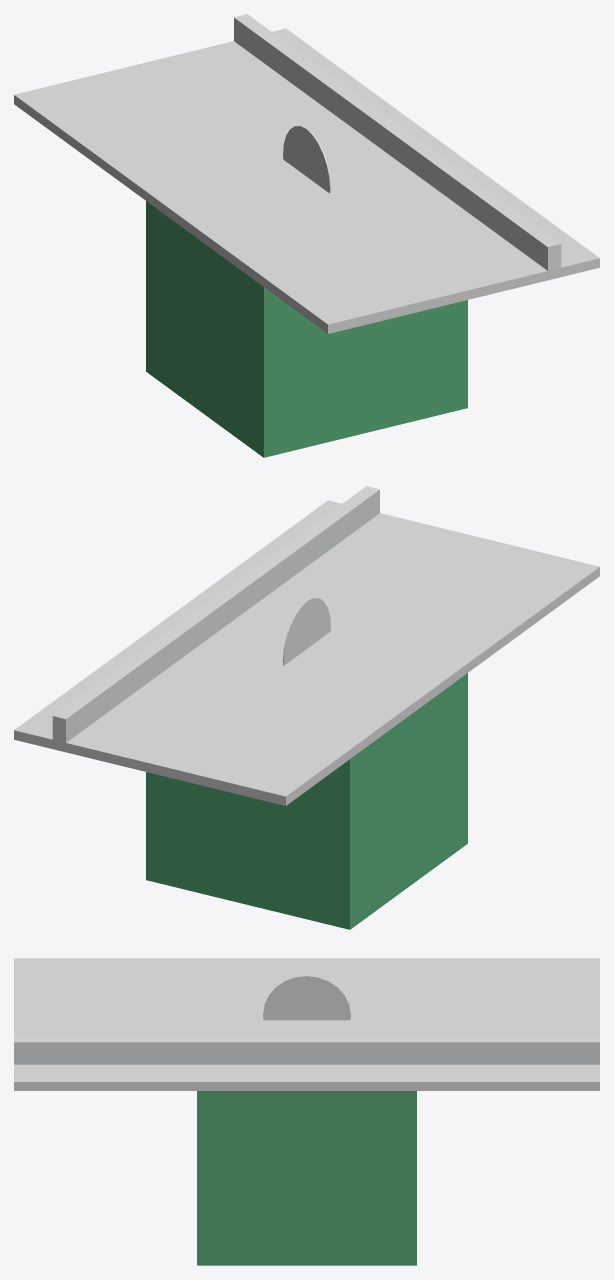
File: industrial.machine.saw_bench.glb
The picture shows the model from 3 angles, top to bottom: view 1: azimuth 30°, elevation 25°; view 2: azimuth 150°, elevation 25°; view 3: azimuth 270°, elevation 25°; orthographic projection. The views are drawn at different scales.
Parts seen in each view (by area): view 1: main__steel_stainless, main__plastic_green, main__aluminium; view 2: main__steel_stainless, main__plastic_green, main__aluminium; view 3: main__steel_stainless, main__plastic_green, main__aluminium.
Part boxes in pixels (box(x1,y1,x2,y2)): main__steel_stainless: box(14, 28, 599, 333); main__plastic_green: box(146, 201, 467, 457); main__aluminium: box(234, 14, 561, 270); main__steel_stainless: box(14, 500, 599, 805); main__plastic_green: box(146, 673, 467, 929); main__aluminium: box(52, 486, 379, 742); main__steel_stainless: box(14, 958, 599, 1090); main__plastic_green: box(197, 1091, 416, 1265); main__aluminium: box(14, 1036, 599, 1064).
Size of the model in its own units: 1.2 by 1.1 by 2.4.
